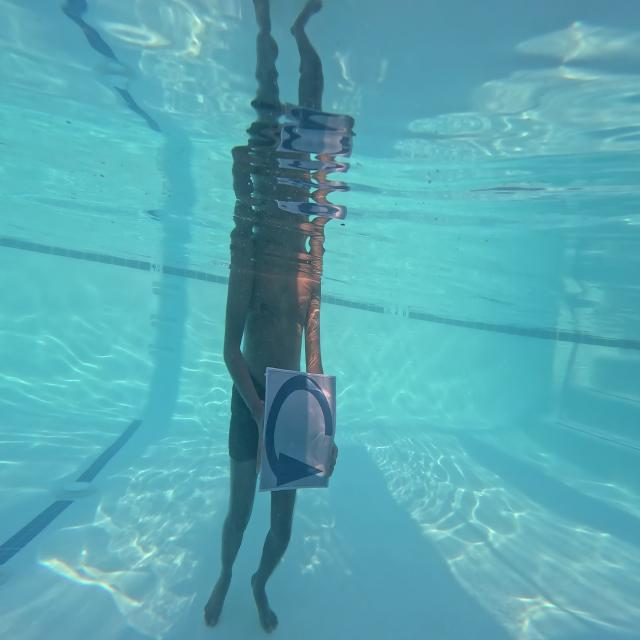blue_side: (264, 370, 347, 504)
